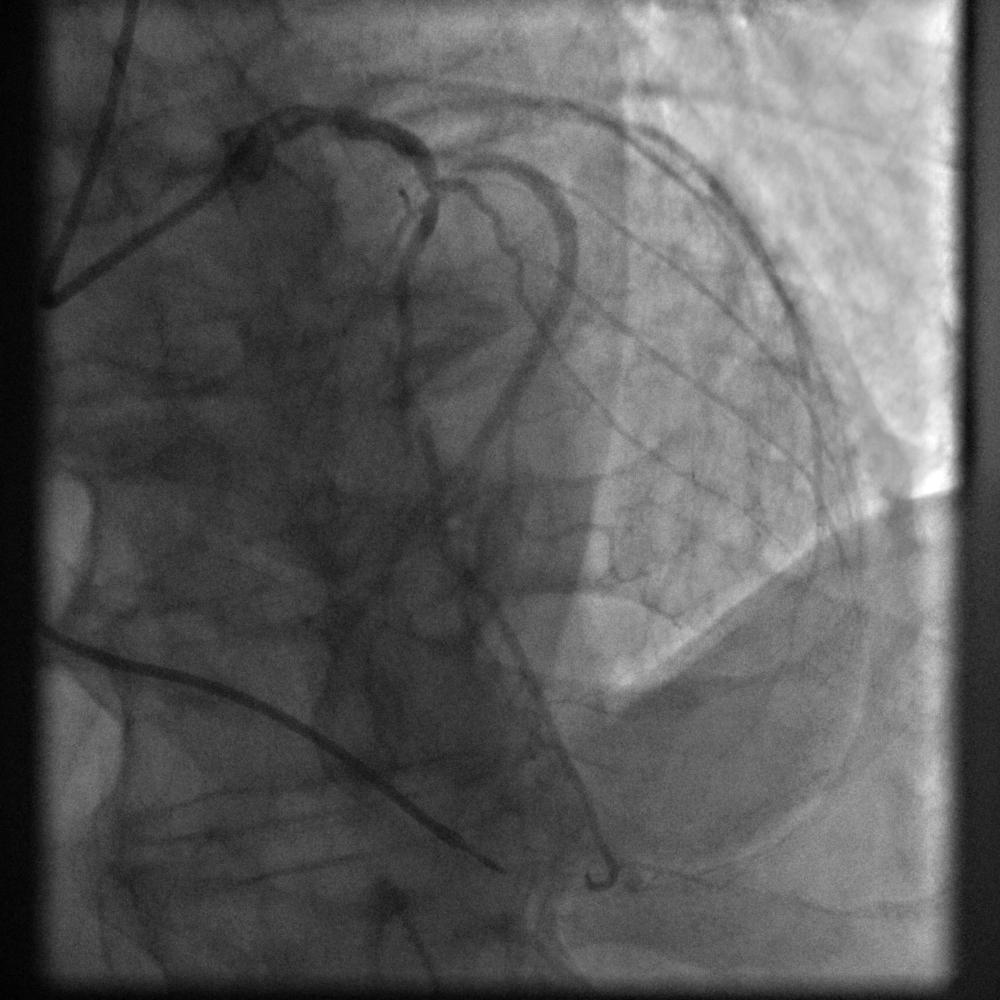Stenosis: (411, 161, 456, 211)
